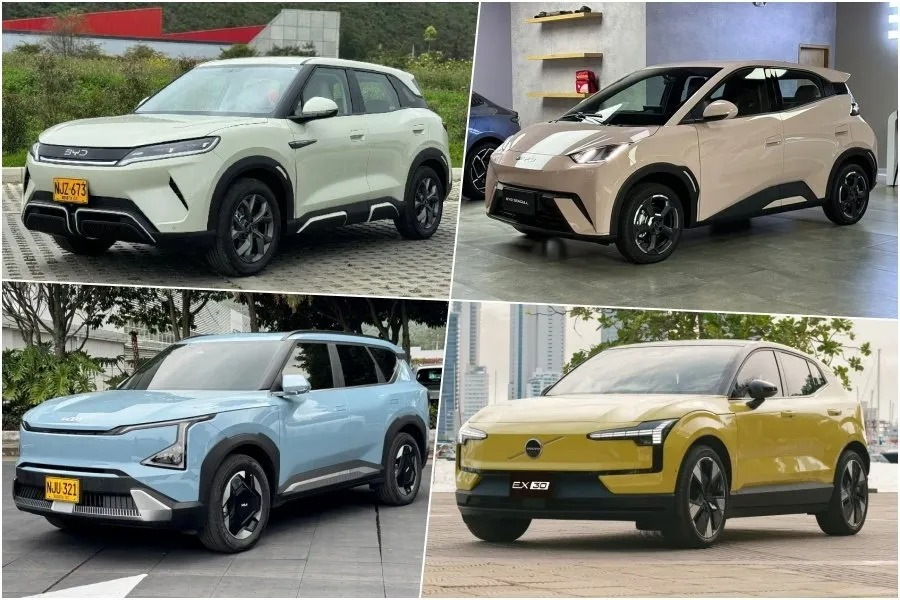car: (446, 330, 887, 548), (24, 47, 448, 273), (26, 45, 447, 269), (15, 324, 439, 544), (470, 52, 886, 264), (467, 2, 620, 178), (456, 93, 513, 205)
